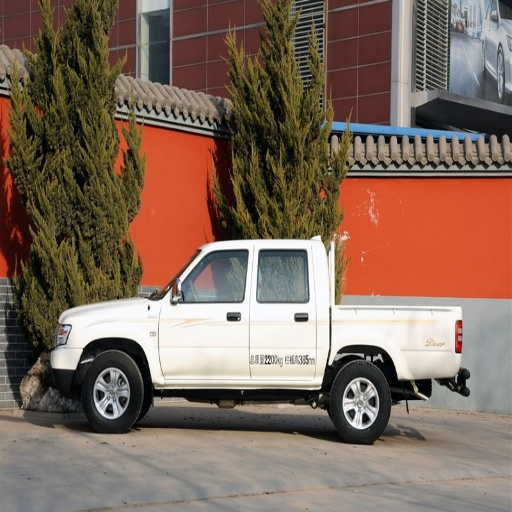back_left_door: (250, 248, 320, 377)
front_left_door: (161, 248, 256, 379)
trunk: (323, 298, 443, 385)
